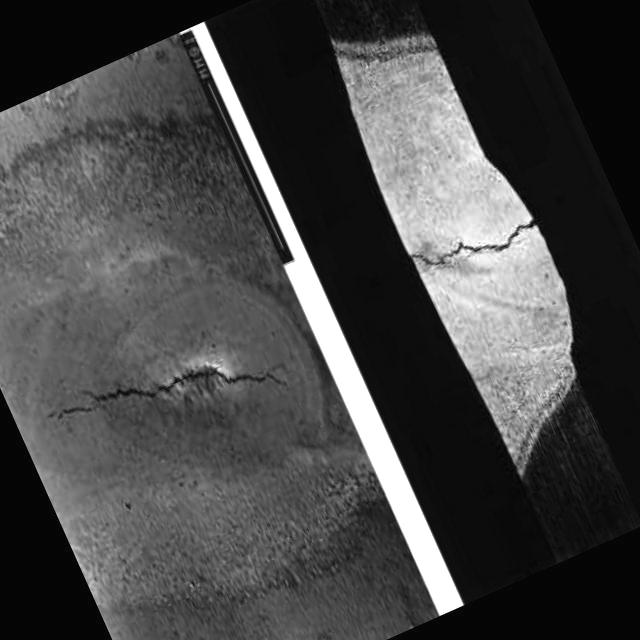defect: (51, 361, 297, 428), (407, 214, 540, 272)
